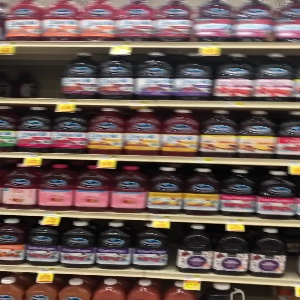void: (1, 47, 63, 101)
